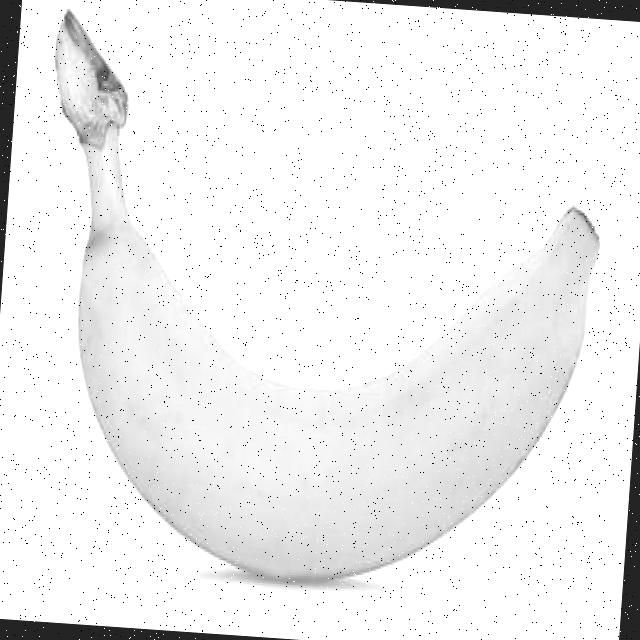banana: (58, 137, 607, 602)
